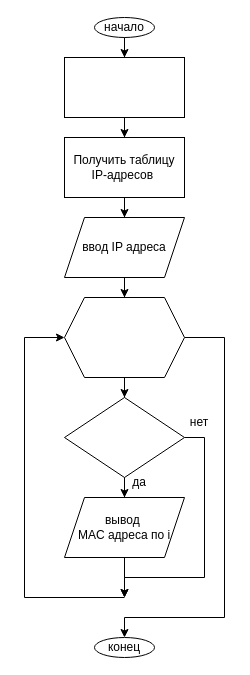
The diagram is 250 pixels wide and 675 high, and some of its shapes have lost their labels. Each missing label, with the box of its shape:
IP адрес равен адресу из таблицы по i: (64, 396, 184, 478)
Получить таблицу MAC-адресов: (64, 56, 184, 118)
цикл i от 0 до кол-ва MAC-адресов: (64, 296, 184, 378)
